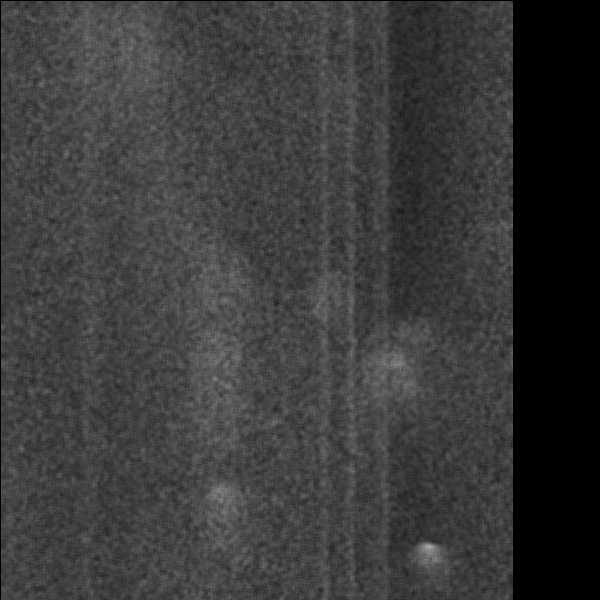spark: (363, 322, 422, 445), (411, 539, 442, 600), (201, 477, 236, 518)
